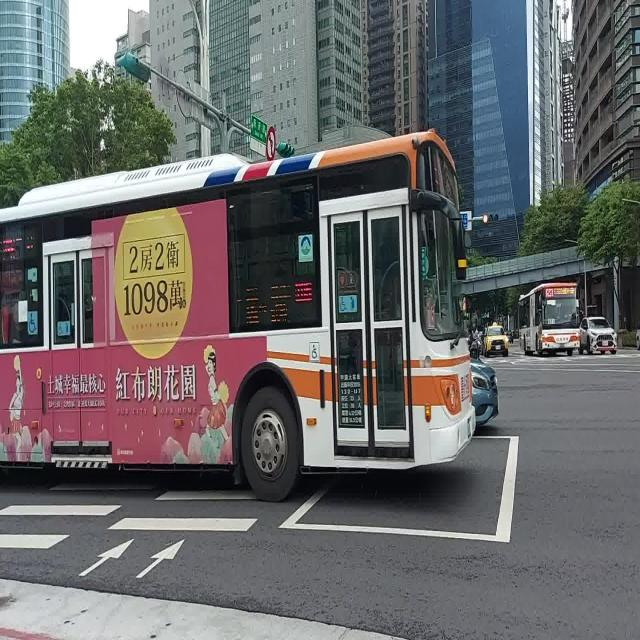bus: (0, 131, 475, 498), (519, 282, 580, 356)
car: (471, 360, 499, 423), (580, 318, 618, 353), (484, 324, 509, 356)
crosswalk: (104, 488, 261, 533), (0, 498, 128, 550)
